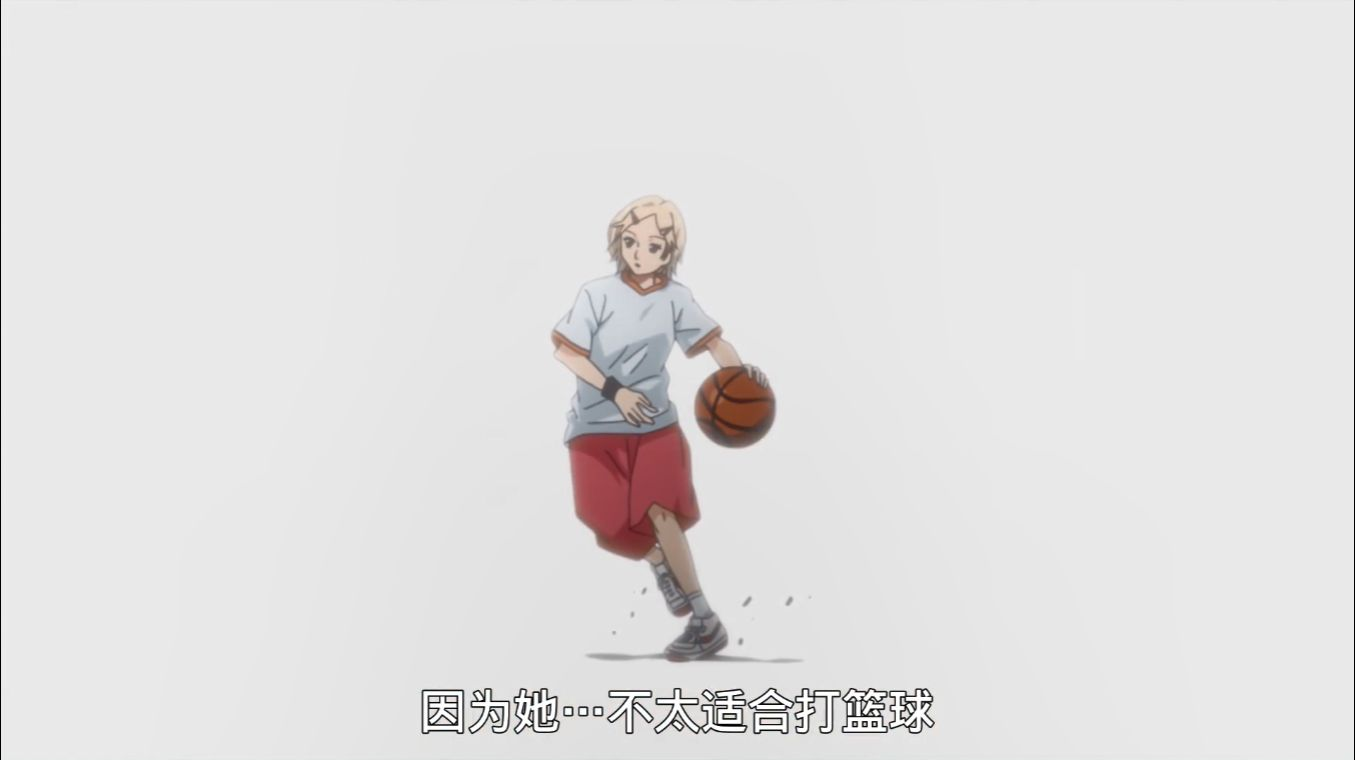ball: (694, 365, 777, 449)
